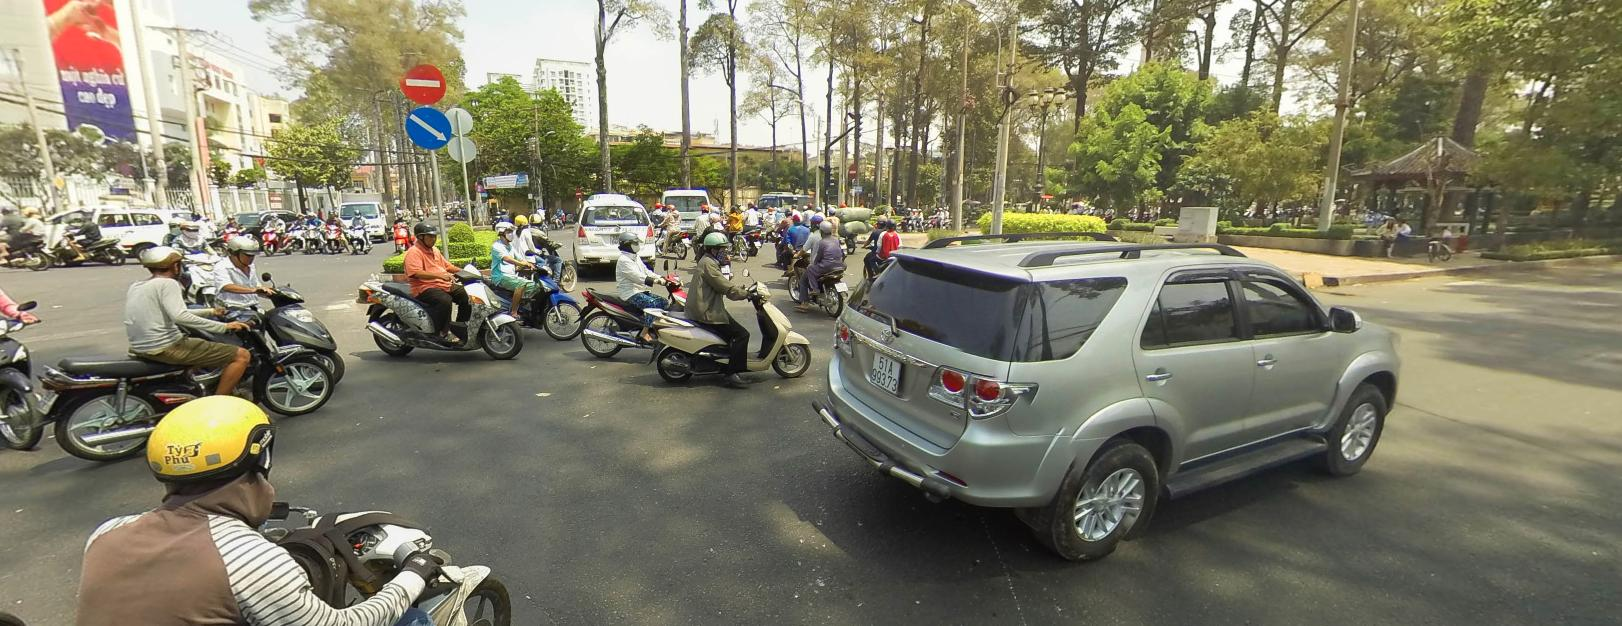Cam nguoc chieu: (398, 61, 445, 103), (848, 163, 857, 177)
Hieu lenh: (403, 107, 452, 149)
